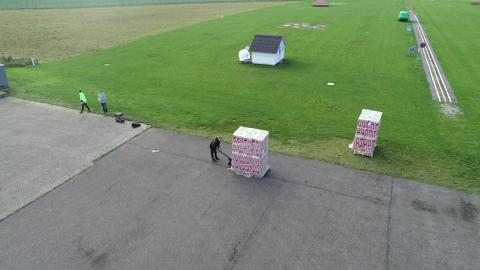RockwoolPallet: (231, 125, 272, 178)
